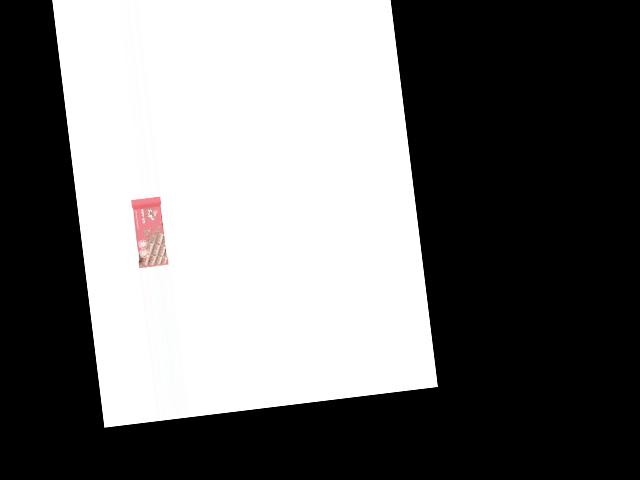chocolate: (130, 195, 168, 268)
